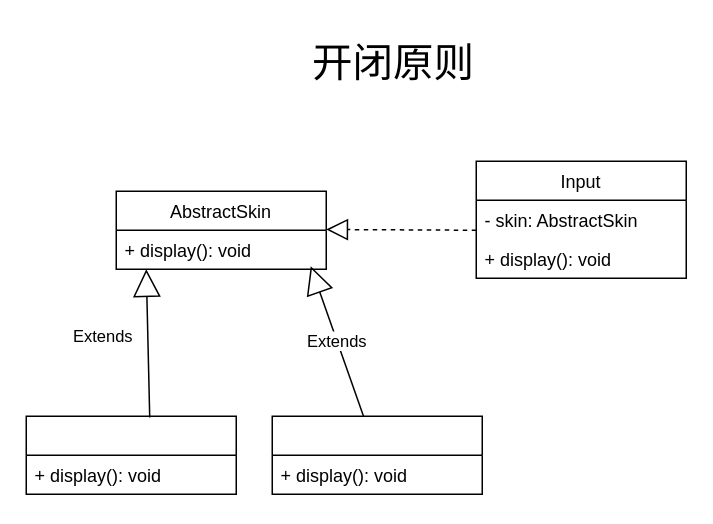
This 713x524 diagram has some shape labels left out. Each missing label, with the box of its shape:
DefaultSkin: (25, 415, 236, 494)
YonagiSkin: (271, 415, 482, 494)
